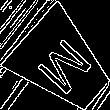M_SE: (30, 30, 97, 98)
